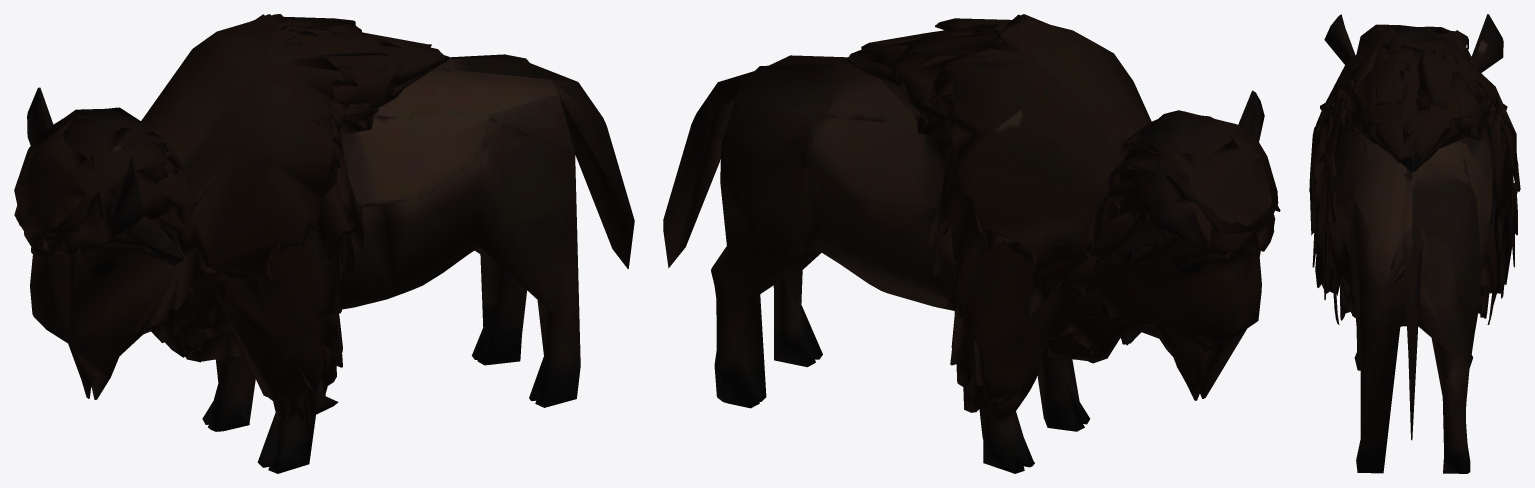
The model's file is bison.glb.
3 views of the same model, side by side, from view 1: azimuth 30°, elevation 25°; view 2: azimuth 150°, elevation 25°; view 3: azimuth 270°, elevation 25° (orthographic). The views are drawn at different scales.
Visible parts, largest first — view 1: world; view 2: world; view 3: world.
Part boxes in pixels (x1=…): world: x1=14, y1=14, x2=634, y2=473; world: x1=663, y1=14, x2=1280, y2=473; world: x1=1309, y1=14, x2=1520, y2=473.
Size of the model in its own units: 0.9991 by 0.6648 by 0.3855.
1 material, 1 textured.
